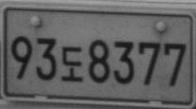3: (35, 37, 57, 80), (113, 40, 134, 84)
7: (163, 42, 187, 86), (138, 41, 161, 86)
8: (87, 38, 110, 83)
9: (10, 34, 32, 79)
도: (60, 45, 82, 82)
